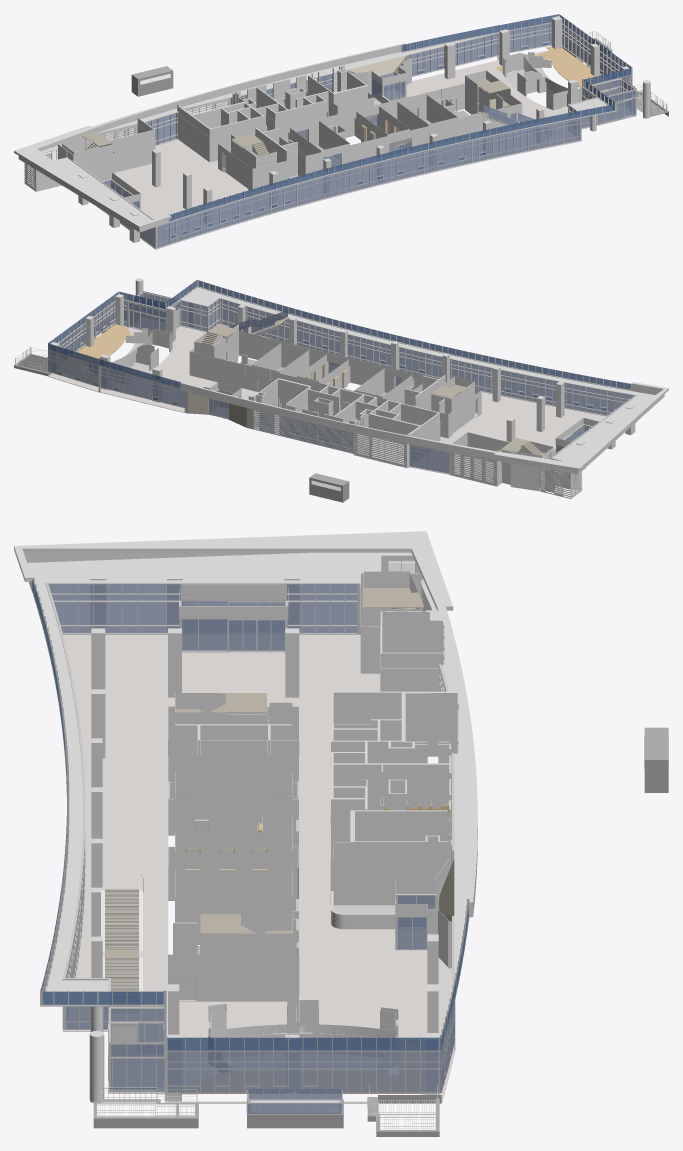
The picture shows the model from 3 angles, top to bottom: view 1: azimuth 30°, elevation 25°; view 2: azimuth 150°, elevation 25°; view 3: azimuth 270°, elevation 25°; orthographic projection. The views are drawn at different scales.
Visible parts, largest first — view 1: A8_1F_Wall, A8_1F_WindowGlass, A8_1F_Floor, A8_1F_ExternalObject, A8_1F_WindowFrame, A8_1F_Pillar, A8_1F_ExternalStructure, A8_1F_Stair, A8_1F_AutoDoor, A8_1F_Door, A8_1F_Vent, A8_1F_InnerFence; view 2: A8_1F_Wall, A8_1F_WindowGlass, A8_1F_ExternalObject, A8_1F_WindowFrame, A8_1F_Floor, A8_1F_Pillar, A8_1F_Vent, A8_1F_ExternalStructure, A8_1F_Stair, A8_1F_Door, A8_1F_AutoDoor, A8_1F_InnerFence; view 3: A8_1F_Wall, A8_1F_Floor, A8_1F_WindowGlass, A8_1F_ExternalObject, A8_1F_WindowFrame, A8_1F_Pillar, A8_1F_ExternalStructure, A8_1F_Stair, A8_1F_Door.
Boxes of the visible parts, x1=… form: A8_1F_Wall: x1=25, y1=52, x2=581, y2=202; A8_1F_WindowGlass: x1=103, y1=14, x2=636, y2=247; A8_1F_Floor: x1=97, y1=46, x2=636, y2=249; A8_1F_ExternalObject: x1=14, y1=33, x2=636, y2=232; A8_1F_WindowFrame: x1=72, y1=14, x2=636, y2=248; A8_1F_Pillar: x1=78, y1=16, x2=650, y2=242; A8_1F_ExternalStructure: x1=131, y1=31, x2=668, y2=116; A8_1F_Stair: x1=70, y1=79, x2=547, y2=165; A8_1F_AutoDoor: x1=354, y1=71, x2=624, y2=152; A8_1F_Door: x1=267, y1=57, x2=631, y2=176; A8_1F_Vent: x1=27, y1=73, x2=337, y2=186; A8_1F_InnerFence: x1=478, y1=103, x2=535, y2=124; A8_1F_Wall: x1=89, y1=324, x2=598, y2=497; A8_1F_WindowGlass: x1=48, y1=280, x2=634, y2=473; A8_1F_ExternalObject: x1=98, y1=287, x2=668, y2=498; A8_1F_WindowFrame: x1=48, y1=280, x2=637, y2=473; A8_1F_Floor: x1=48, y1=318, x2=636, y2=474; A8_1F_Pillar: x1=49, y1=278, x2=635, y2=470; A8_1F_Vent: x1=254, y1=409, x2=579, y2=494; A8_1F_ExternalStructure: x1=14, y1=310, x2=349, y2=502; A8_1F_Stair: x1=201, y1=317, x2=544, y2=455; A8_1F_Door: x1=115, y1=306, x2=510, y2=484; A8_1F_AutoDoor: x1=140, y1=303, x2=349, y2=419; A8_1F_InnerFence: x1=229, y1=310, x2=288, y2=333; A8_1F_Wall: x1=168, y1=555, x2=458, y2=1072; A8_1F_Floor: x1=62, y1=634, x2=454, y2=1103; A8_1F_WindowGlass: x1=32, y1=579, x2=469, y2=1092; A8_1F_ExternalObject: x1=14, y1=531, x2=477, y2=1050; A8_1F_WindowFrame: x1=32, y1=578, x2=468, y2=1100; A8_1F_Pillar: x1=89, y1=573, x2=439, y2=1102; A8_1F_ExternalStructure: x1=93, y1=727, x2=668, y2=1136; A8_1F_Stair: x1=101, y1=588, x2=424, y2=1012; A8_1F_Door: x1=108, y1=771, x2=398, y2=1086.
Size of the model in its own units: 95.69 by 7.49 by 49.14.
